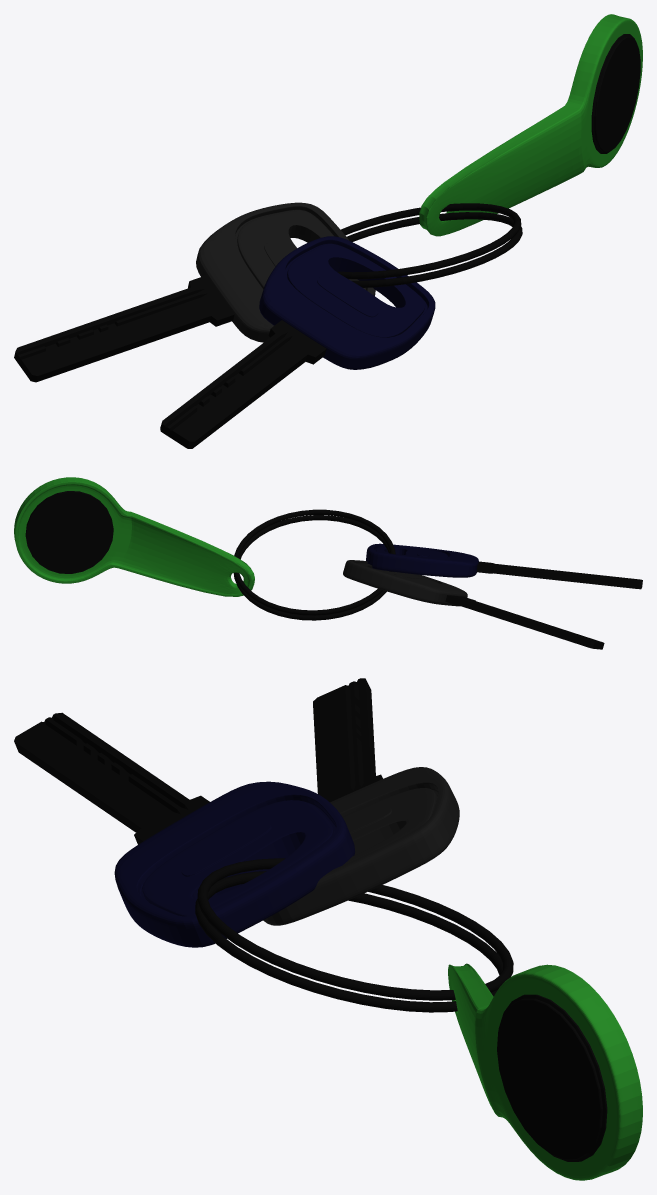
Rendered from PoliceKeys.fbx.
3 renders of one model, top to bottom at view 1: azimuth 30°, elevation 25°; view 2: azimuth 150°, elevation 25°; view 3: azimuth 270°, elevation 25°, orthographic. The views are drawn at different scales.
Visible parts, largest first — view 1: Chiave_Dx, Chiave_Sx, Portachiavi, Anello; view 2: Portachiavi, Chiave_Dx, Chiave_Sx, Anello; view 3: Chiave_Dx, Portachiavi, Chiave_Sx, Anello.
Part boxes in pixels (x1,y1,x2,y2): Chiave_Dx: (160,236,435,448); Chiave_Sx: (14,202,375,382); Portachiavi: (419,14,642,236); Anello: (338,203,522,287); Portachiavi: (14,477,254,596); Chiave_Dx: (366,543,642,589); Chiave_Sx: (343,560,604,649); Anello: (233,509,395,620); Chiave_Dx: (14,712,354,947); Portachiavi: (448,963,642,1180); Chiave_Sx: (263,678,459,925); Anello: (195,858,513,1012).
Size of the model in its own units: 26.74 by 5.04 by 14.19.
